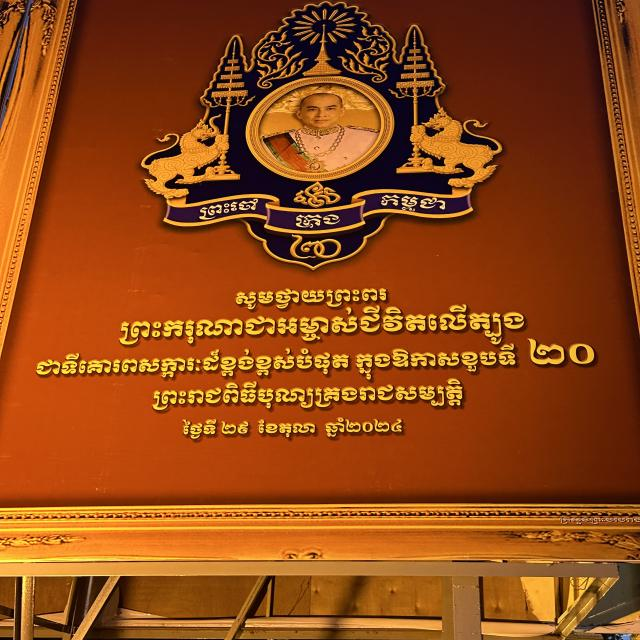2: (14, 336, 604, 387), (178, 194, 456, 233)
3: (174, 417, 411, 443)
Yolov11_80vkh: (103, 304, 532, 347), (136, 380, 481, 421), (226, 282, 392, 308), (278, 237, 351, 264)
